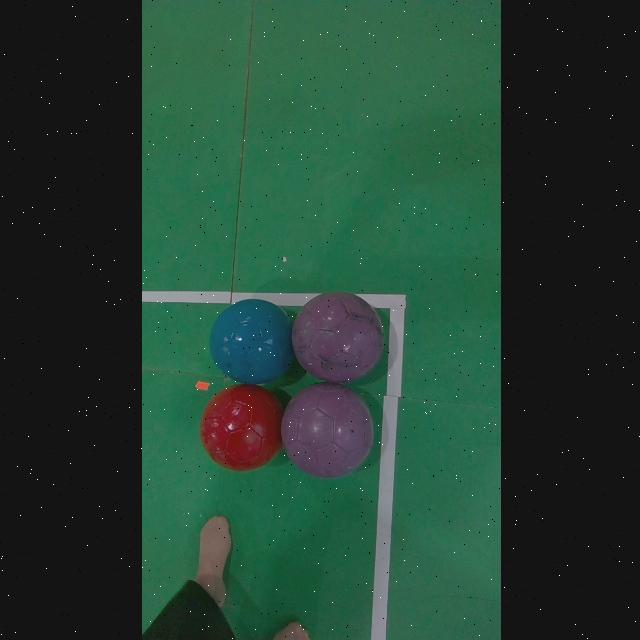B: (208, 300, 291, 383)
P: (279, 383, 371, 478), (291, 292, 381, 381)
R: (198, 385, 280, 472)
